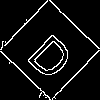D: (25, 25, 83, 83)
